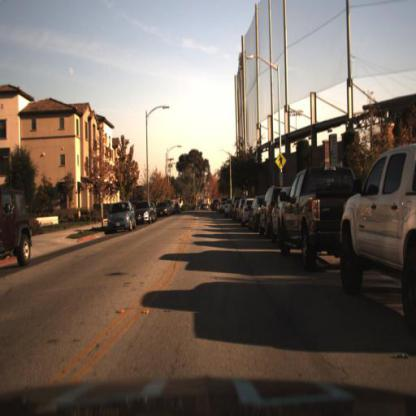car: (341, 144, 416, 335), (276, 165, 346, 281), (1, 189, 34, 270), (104, 198, 137, 240), (259, 185, 275, 245), (273, 188, 285, 251), (136, 200, 153, 229), (250, 198, 260, 236)
